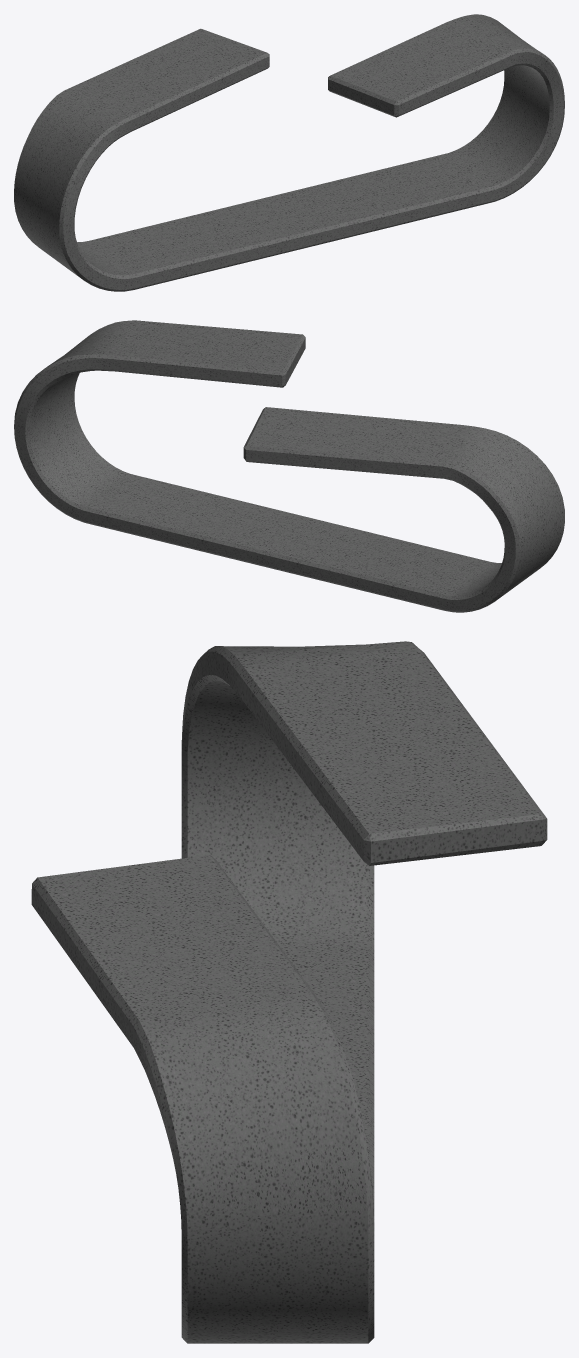
File: banco_jardim_1.glb
3 renders of one model, top to bottom at view 1: azimuth 30°, elevation 25°; view 2: azimuth 150°, elevation 25°; view 3: azimuth 270°, elevation 25°, orthographic. The views are drawn at different scales.
Parts seen in each view (by area): view 1: Plush; view 2: Plush; view 3: Plush.
Part boxes in pixels (box(x1,y1,x2,y2)): Plush: box(14, 14, 564, 291); Plush: box(14, 320, 564, 612); Plush: box(31, 641, 547, 1343).
Bounding box in the file's own units: 1.5 × 0.4577 × 0.6632.
Materials: 1 (1 with a texture image).
